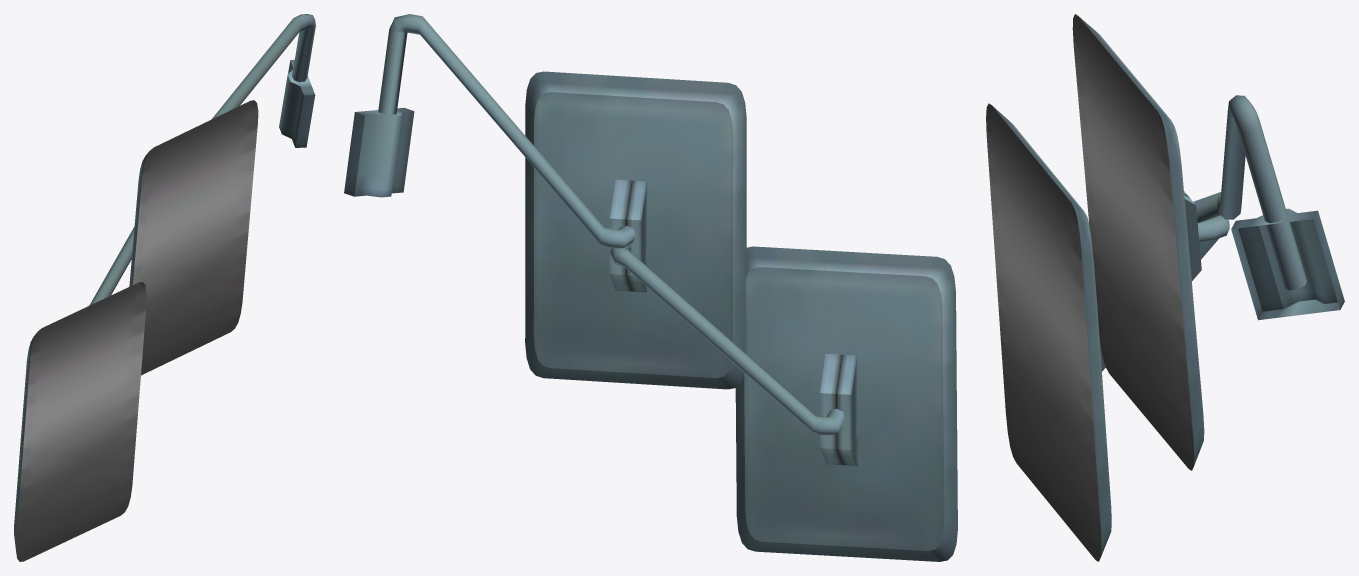
File: mirror_l.fbx
3 views of the same model, side by side, from view 1: azimuth 30°, elevation 25°; view 2: azimuth 150°, elevation 25°; view 3: azimuth 270°, elevation 25° (orthographic). The views are drawn at different scales.
Parts seen in each view (by area): view 1: mirror_l; view 2: mirror_l; view 3: mirror_l.
Part boxes in pixels (x1,y1,x2,y2): mirror_l: (14, 14, 315, 561); mirror_l: (344, 14, 957, 561); mirror_l: (986, 14, 1344, 561).
Size of the model in its own units: 0.2896 by 0.2946 by 0.1513.
